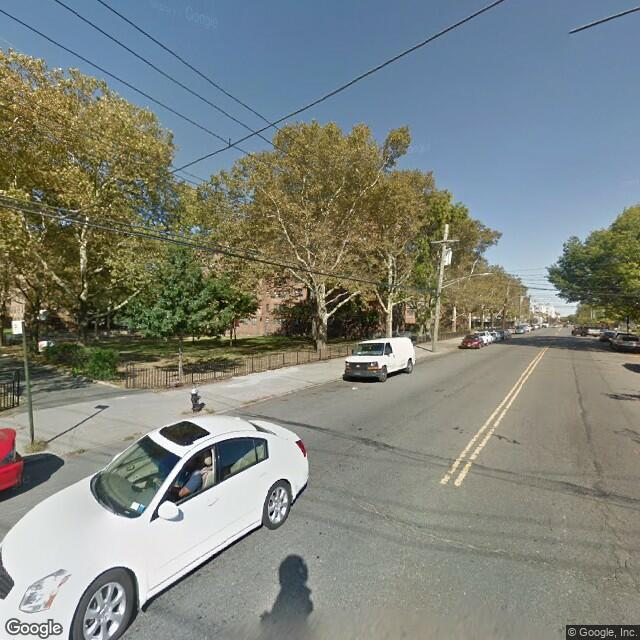litter: (352, 387, 362, 391)
